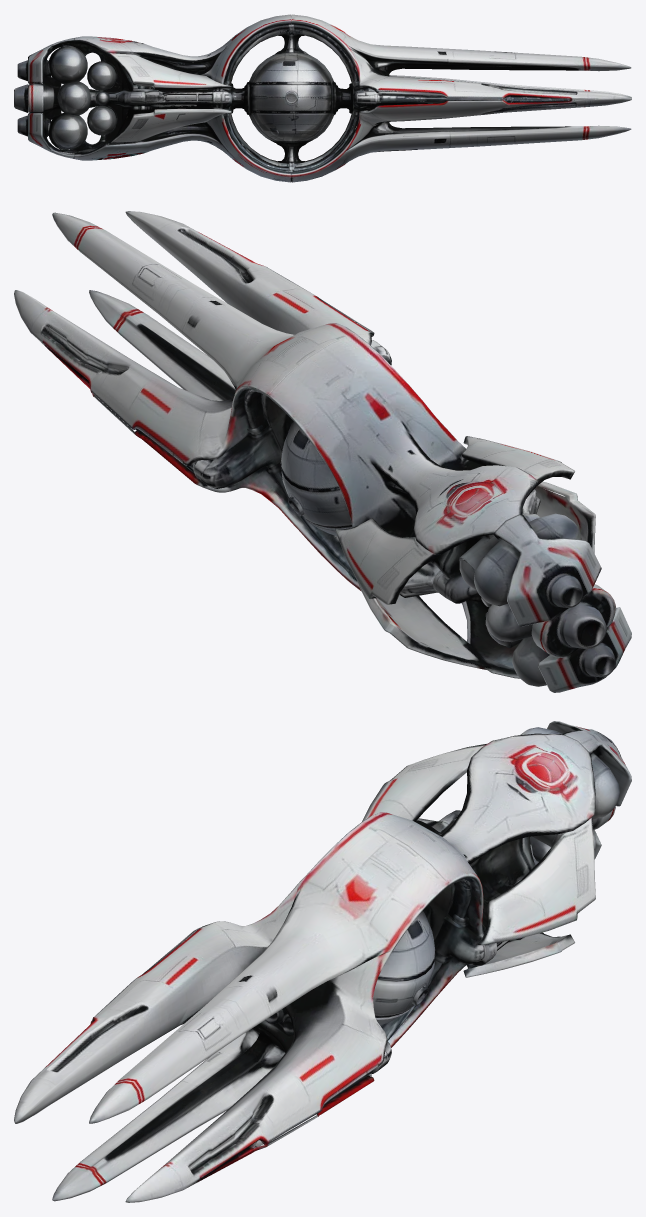
Rendered from espionage_probe-v2.glb.
The picture shows the model from 3 angles, top to bottom: view 1: azimuth 30°, elevation 25°; view 2: azimuth 150°, elevation 25°; view 3: azimuth 270°, elevation 25°; orthographic projection. The views are drawn at different scales.
Parts seen in each view (by area): view 1: d7605f82_cf73_47ca_9b35_499a8d16986b; view 2: d7605f82_cf73_47ca_9b35_499a8d16986b; view 3: d7605f82_cf73_47ca_9b35_499a8d16986b.
Boxes of the visible parts, bbox=[...] form: d7605f82_cf73_47ca_9b35_499a8d16986b: bbox=[14, 14, 631, 182]; d7605f82_cf73_47ca_9b35_499a8d16986b: bbox=[14, 211, 631, 692]; d7605f82_cf73_47ca_9b35_499a8d16986b: bbox=[14, 721, 631, 1202].
Bounding box in the file's own units: 1.32 × 0.3997 × 0.861.
1 material, 1 textured.
